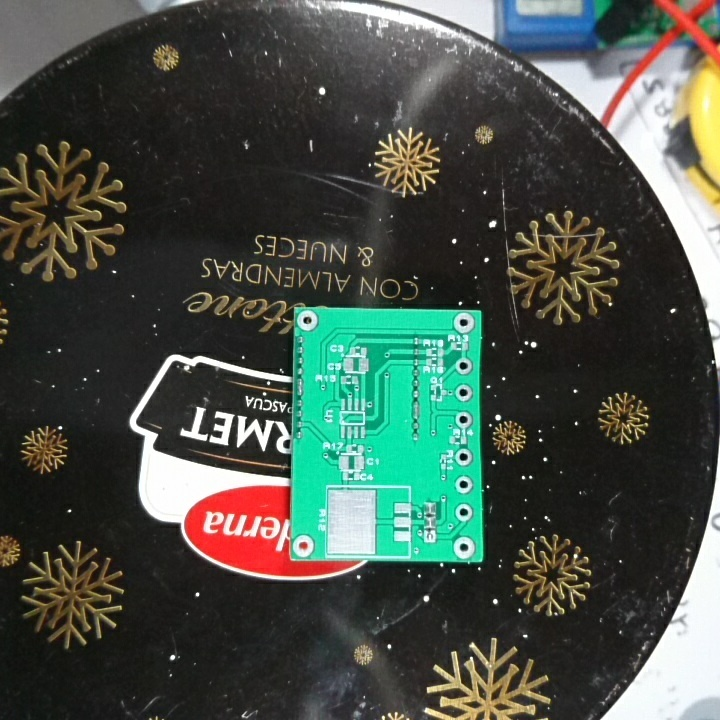F: (291, 532, 323, 558), (452, 309, 478, 338), (450, 534, 478, 560), (296, 308, 322, 335), (452, 446, 477, 469), (453, 499, 476, 524), (453, 473, 477, 496), (453, 408, 476, 430), (455, 356, 477, 378), (453, 382, 476, 403), (422, 529, 441, 546)
P: (410, 398, 425, 422), (294, 376, 307, 399)
